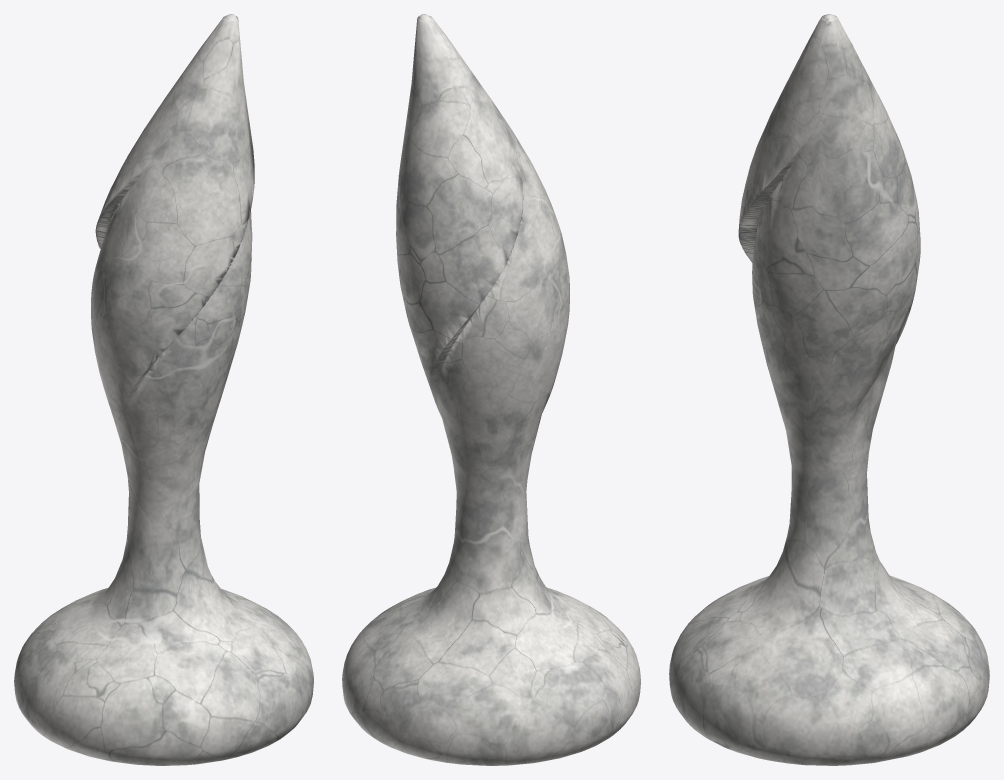
The model's file is queen-white.glb.
The picture shows the model from 3 angles, left to right: view 1: azimuth 30°, elevation 25°; view 2: azimuth 150°, elevation 25°; view 3: azimuth 270°, elevation 25°; orthographic projection. The views are drawn at different scales.
Parts seen in each view (by area): view 1: Serpentina_queen_white; view 2: Serpentina_queen_white; view 3: Serpentina_queen_white.
Part boxes in pixels (x1,y1,x2,y2): Serpentina_queen_white: (14,14,313,765); Serpentina_queen_white: (342,14,640,765); Serpentina_queen_white: (669,14,989,765).
Bounding box in the file's own units: 0.6489 × 1.62 × 0.6493.
Materials: 1 (1 with a texture image).
